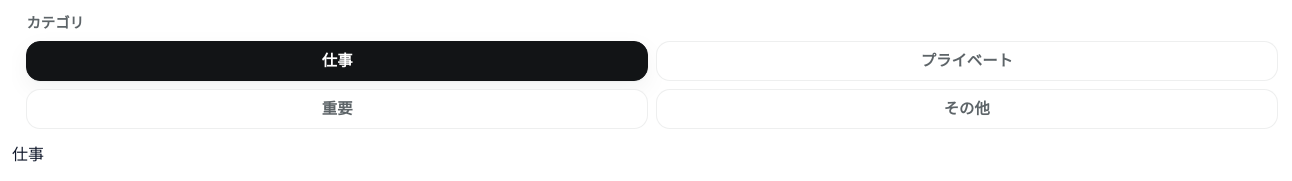
Scenario: メモのカテゴリ › プルダウンではなくボタンで選び、値はカテゴリの名前そのまま
Step 1. Click the button "プライベート" → [967, 61], box [656, 41, 1278, 81]
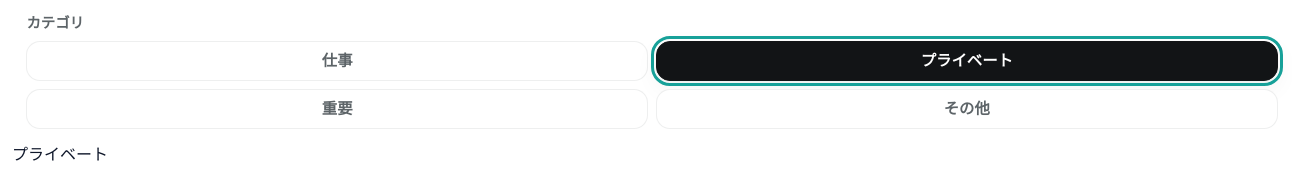
Expected: the text named "今の値" reads "プライベート", [12, 144, 108, 164]
